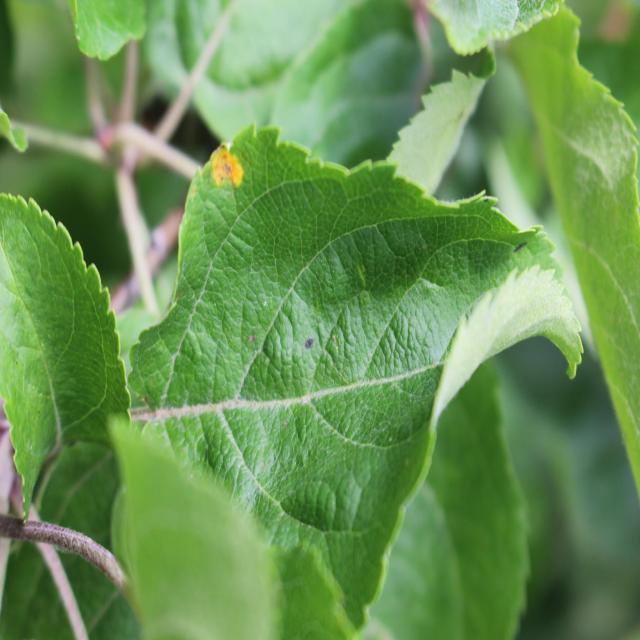Rust: (206, 131, 244, 195)
